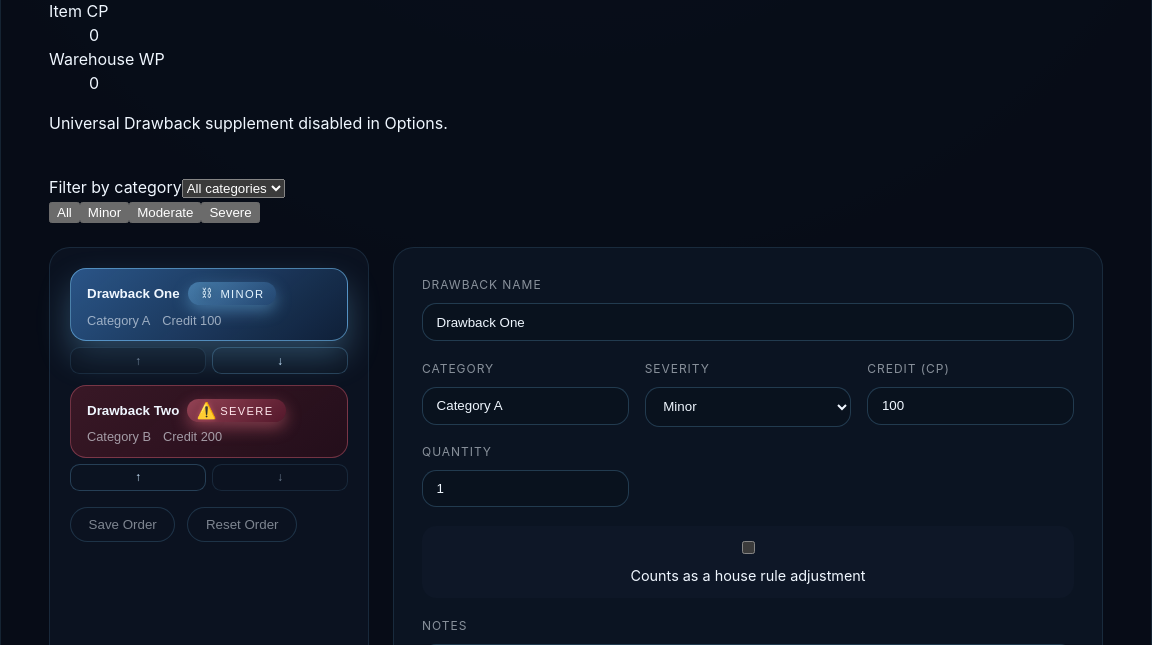
Test: DrawbackSupplement ordering › reorders drawbacks locally and persists via the DAO when confirmed
(page scrolled)
Expected: the list item "Drawback One Minor Category A Credit 100 ↑ ↓" is shown, left=70, top=268, right=348, bottom=374
Expected: the number of list items is 2, left=70, top=268, right=348, bottom=374; left=70, top=385, right=348, bottom=491
What coordinates should you click on to do the following:
click the button named "Move Drawback One later"
I would click on:
 (280, 360)
Its box is left=212, top=347, right=348, bottom=374.
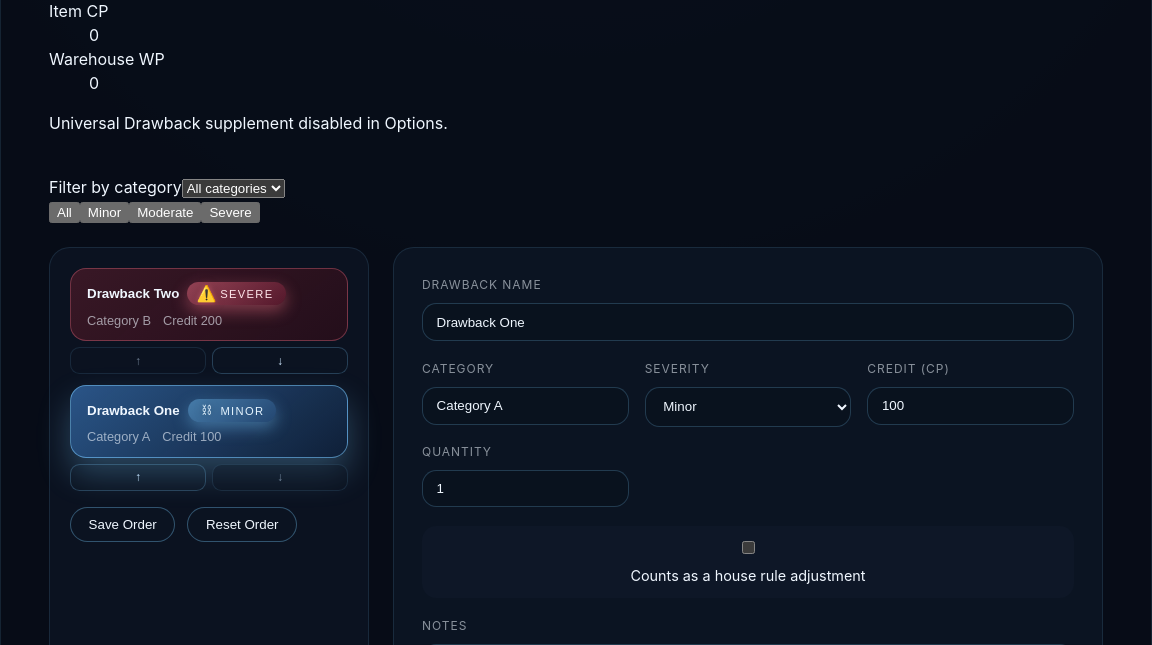
Expected: the button "Save Order" is enabled
What coordinates should you click on to do the following:
click the button "Save Order"
I would click on:
 (123, 524)
Its box is left=70, top=507, right=175, bottom=542.
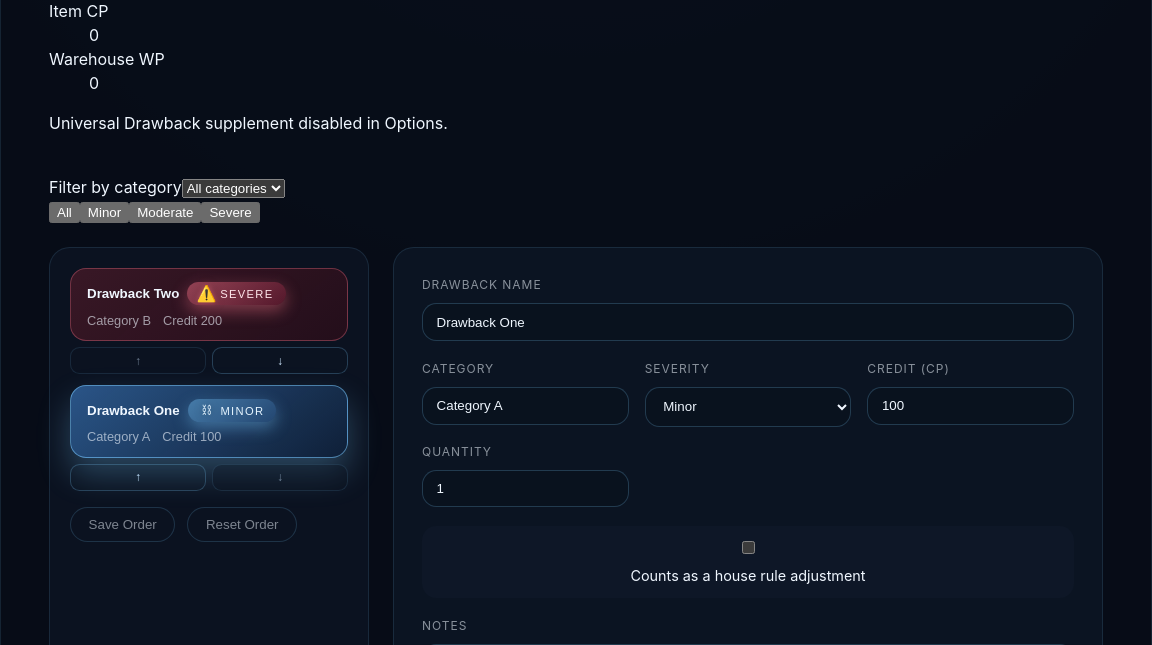
Expected: the button "Reset Order" is disabled, left=187, top=507, right=297, bottom=542
Expected: the button "Save Order" is disabled, left=70, top=507, right=175, bottom=542
